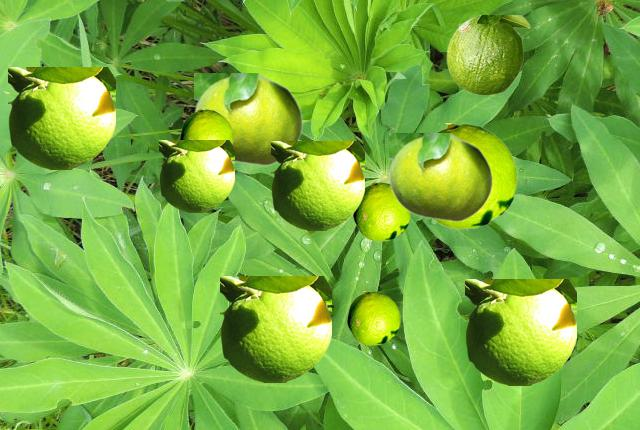dalandan: (465, 279, 575, 384), (220, 276, 330, 381), (8, 67, 114, 168), (194, 73, 302, 165), (389, 133, 492, 221), (433, 123, 516, 228), (271, 141, 363, 229), (446, 15, 529, 94), (159, 140, 233, 211), (353, 182, 409, 240), (347, 291, 399, 344), (180, 109, 232, 142)
